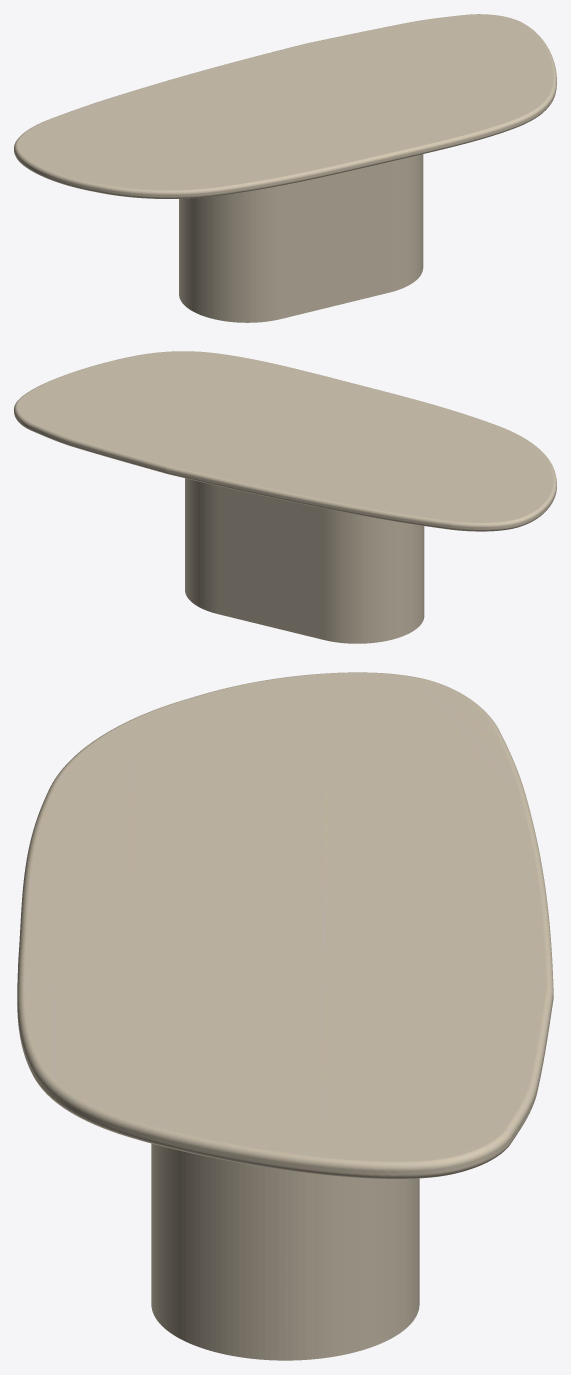
File: table_beige.glb
3 renders of one model, top to bottom at view 1: azimuth 30°, elevation 25°; view 2: azimuth 150°, elevation 25°; view 3: azimuth 270°, elevation 25°, orthographic. The views are drawn at different scales.
Parts seen in each view (by area): view 1: Vulkan - 240x110_Inverse╠üe_Pied Bernard; view 2: Vulkan - 240x110_Inverse╠üe_Pied Bernard; view 3: Vulkan - 240x110_Inverse╠üe_Pied Bernard.
Boxes of the visible parts, x1,y1,x2,y2 form: Vulkan - 240x110_Inverse╠üe_Pied Bernard: (14,14,556,322); Vulkan - 240x110_Inverse╠üe_Pied Bernard: (14,351,556,643); Vulkan - 240x110_Inverse╠üe_Pied Bernard: (17,672,553,1360).
Size of the model in its own units: 2.4 by 0.758 by 1.1.
Materials: 1 (1 with a texture image).
